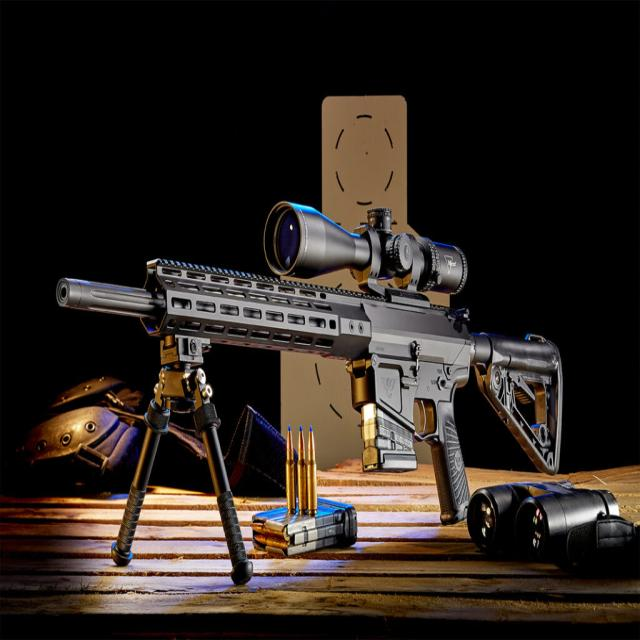Rifle: (54, 201, 562, 527)
